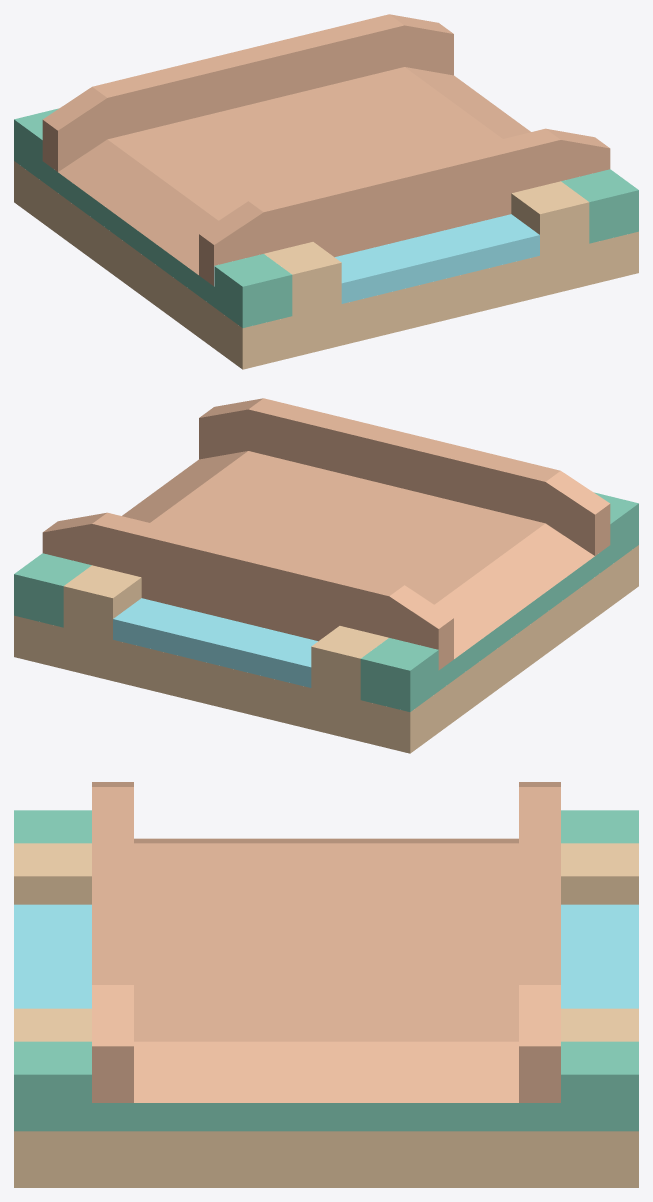
File: tile_riverBridge.glb
The picture shows the model from 3 angles, top to bottom: view 1: azimuth 30°, elevation 25°; view 2: azimuth 150°, elevation 25°; view 3: azimuth 270°, elevation 25°; orthographic projection. The views are drawn at different scales.
Visible parts, largest first — view 1: tile_riverBridge; view 2: tile_riverBridge; view 3: tile_riverBridge.
Boxes of the visible parts, bbox=[...] form: tile_riverBridge: bbox=[14, 14, 638, 369]; tile_riverBridge: bbox=[14, 398, 638, 753]; tile_riverBridge: bbox=[14, 782, 638, 1187].
Size of the model in its own units: 1 by 0.3 by 1.
